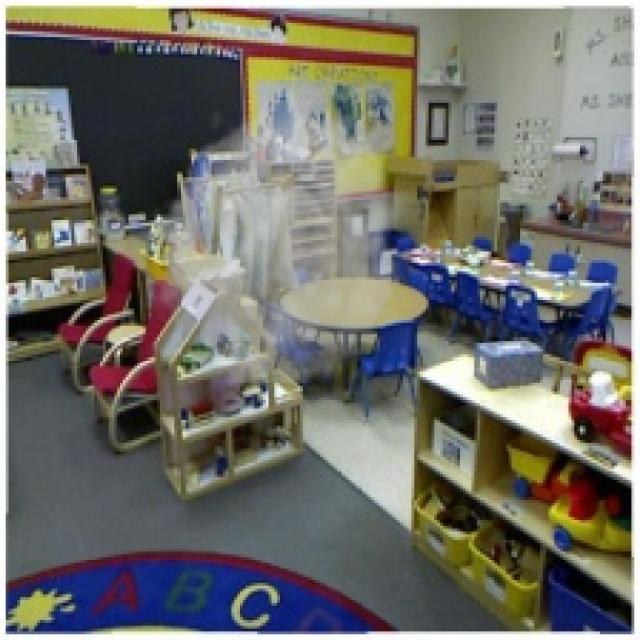Smoke: (142, 100, 418, 383)
